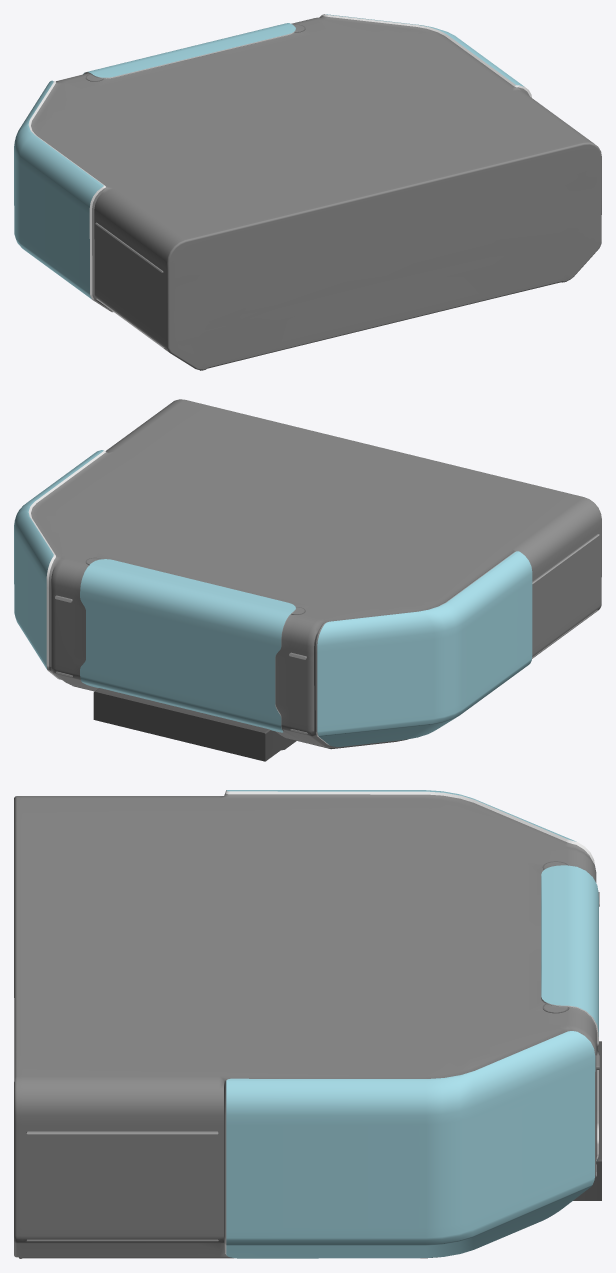
The model's file is Space_ship_interior_2.fbx.
3 renders of one model, top to bottom at view 1: azimuth 30°, elevation 25°; view 2: azimuth 150°, elevation 25°; view 3: azimuth 270°, elevation 25°, orthographic. The views are drawn at different scales.
Visible parts, largest first — view 1: Room, Glass_side, Roof_light, Glass; view 2: Room, Glass_side, Glass, Desk, Roof_light; view 3: Room, Glass_side, Glass, Roof_light, Desk.
Boxes of the visible parts, x1=… form: Room: x1=28, y1=14, x2=601, y2=370; Glass_side: x1=14, y1=14, x2=524, y2=299; Roof_light: x1=176, y1=54, x2=274, y2=95; Glass: x1=83, y1=23, x2=295, y2=77; Room: x1=28, y1=399, x2=601, y2=749; Glass_side: x1=14, y1=450, x2=532, y2=746; Glass: x1=80, y1=559, x2=295, y2=732; Desk: x1=93, y1=688, x2=296, y2=761; Roof_light: x1=176, y1=544, x2=274, y2=585; Room: x1=14, y1=790, x2=599, y2=1258; Glass_side: x1=226, y1=790, x2=595, y2=1258; Glass: x1=541, y1=865, x2=598, y2=1161; Roof_light: x1=400, y1=908, x2=540, y2=967; Desk: x1=573, y1=1041, x2=601, y2=1200.
Size of the model in its own units: 1039 by 326 by 836.
